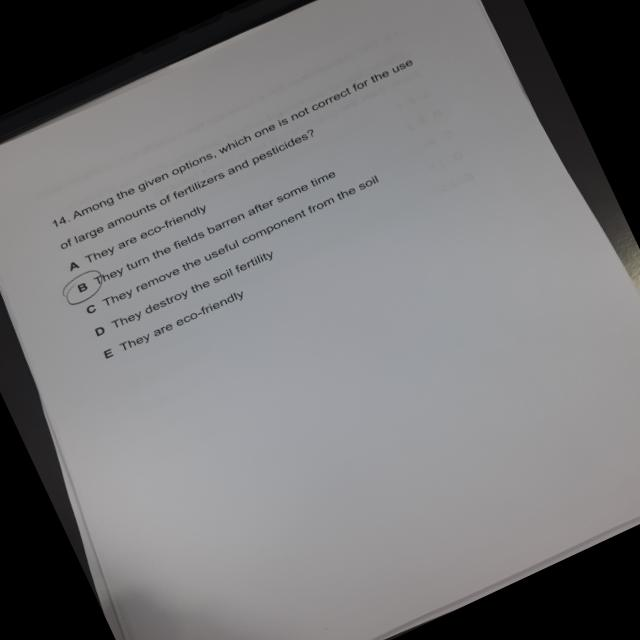B: (57, 265, 113, 311)
